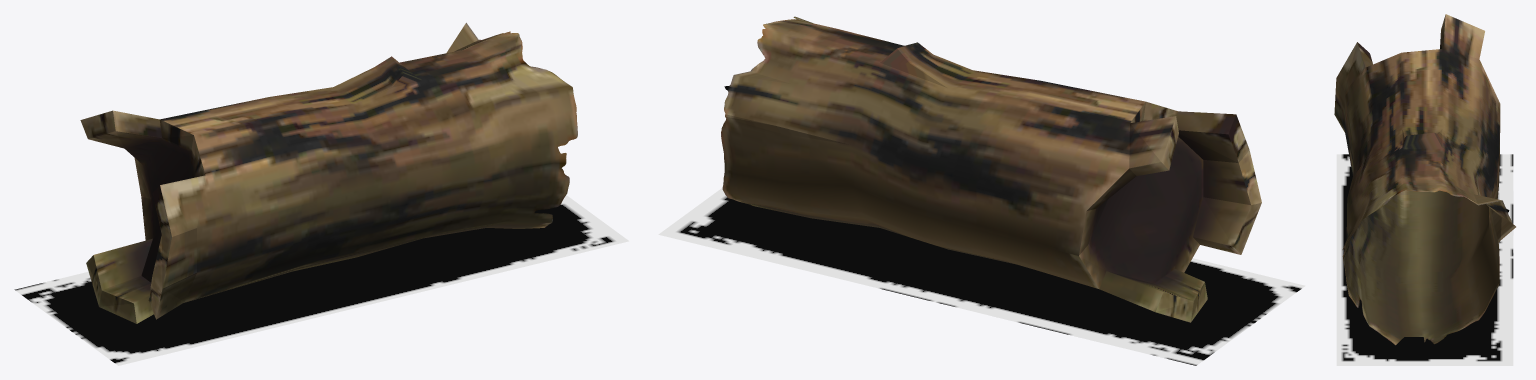
Rendered from Gimmick_tree001.fbx.
3 views of the same model, side by side, from view 1: azimuth 30°, elevation 25°; view 2: azimuth 150°, elevation 25°; view 3: azimuth 270°, elevation 25° (orthographic). The views are drawn at different scales.
Parts seen in each view (by area): view 1: gimmick_tree01, gimmick_shadow; view 2: gimmick_tree01, gimmick_shadow; view 3: gimmick_tree01, gimmick_shadow.
Boxes of the visible parts, left/top/right/bottom form: gimmick_tree01: left=80, top=22, right=577, bottom=323; gimmick_shadow: left=14, top=195, right=628, bottom=365; gimmick_tree01: left=721, top=16, right=1261, bottom=322; gimmick_shadow: left=658, top=188, right=1305, bottom=365; gimmick_tree01: left=1334, top=14, right=1515, bottom=345; gimmick_shadow: left=1336, top=154, right=1513, bottom=365.
Size of the model in its own units: 2.56 by 0.9732 by 0.9557.
